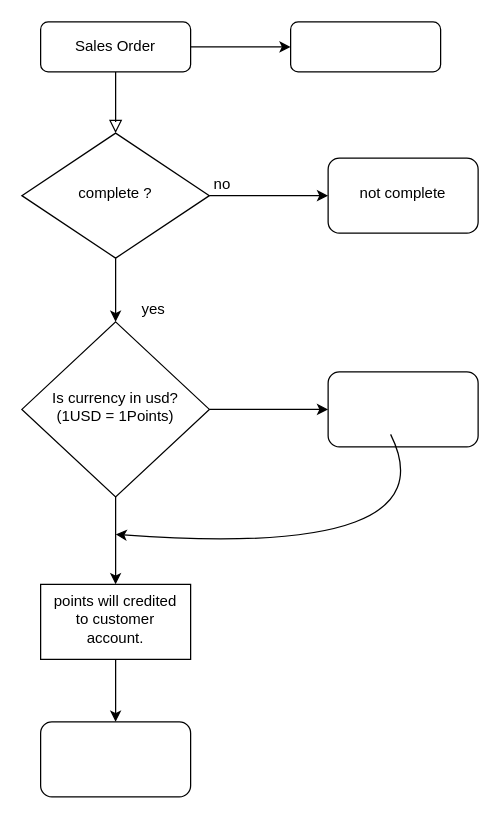
Some shapes in this 500 by 819 pixel diagram are drawn without their labels. Each missing label, with the centre of its shape:
"calculation based on currency" belongs at point 402,409.
"Expiry point is 1 year from date purchased" belongs at point 115,759.
"payment pending / orders not complete" belongs at point 365,46.
